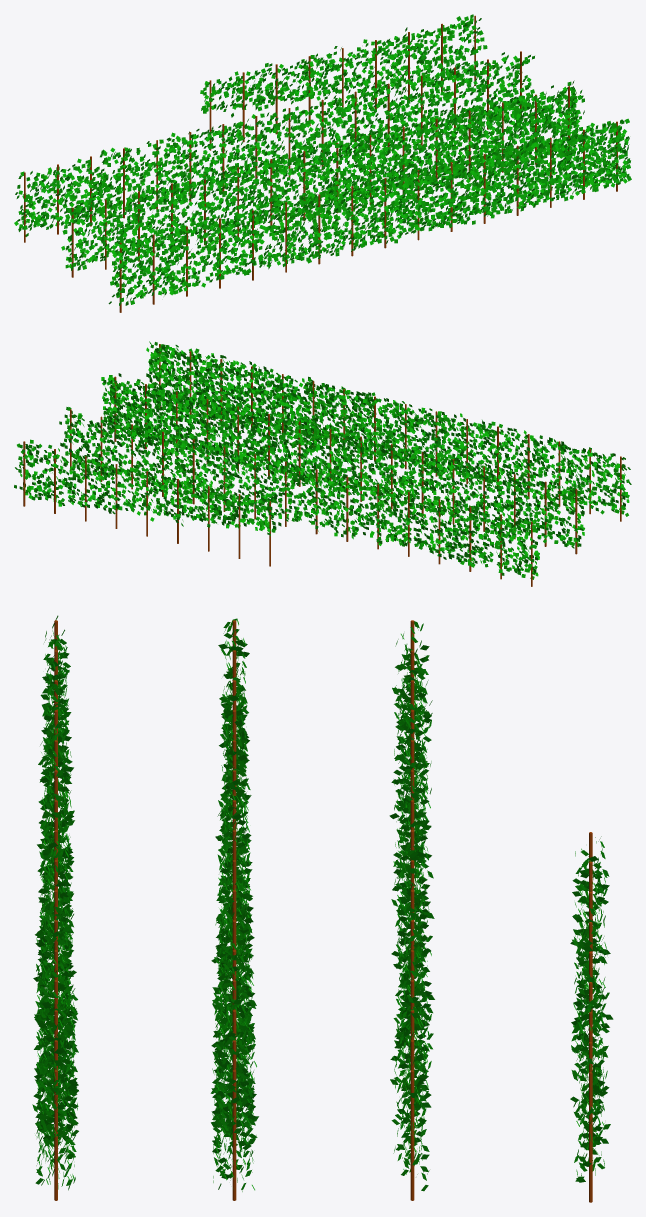
The model's file is cornaredo_vine.dae.
The picture shows the model from 3 angles, top to bottom: view 1: azimuth 30°, elevation 25°; view 2: azimuth 150°, elevation 25°; view 3: azimuth 270°, elevation 25°; orthographic projection. The views are drawn at different scales.
Visible parts, largest first — view 1: vine_3, vine_4, vine_1, vine_2_1, sticks_4, sticks_2, sticks_3, sticks_1; view 2: vine_4, vine_3, vine_1, vine_2_1, sticks_2, sticks_3, sticks_4, sticks_1; view 3: vine_3, vine_4, vine_1, vine_2_1, sticks_2, sticks_3, sticks_4, sticks_1.
Part boxes in pixels (<box>): vine_3: <box>108,118,631,305</box>; vine_4: <box>61,80,584,270</box>; vine_1: <box>14,52,534,236</box>; vine_2_1: <box>200,14,487,117</box>; sticks_4: <box>119,121,617,312</box>; sticks_2: <box>24,51,521,242</box>; sticks_3: <box>71,86,569,277</box>; sticks_1: <box>209,15,475,150</box>; vine_4: <box>101,373,587,548</box>; vine_3: <box>146,341,631,516</box>; vine_1: <box>59,407,540,579</box>; vine_2_1: <box>14,439,281,535</box>; sticks_2: <box>70,409,532,586</box>; sticks_3: <box>114,376,577,554</box>; sticks_4: <box>159,344,621,521</box>; sticks_1: <box>23,441,270,566</box>; vine_3: <box>32,615,78,1190</box>; vine_4: <box>210,618,258,1191</box>; vine_1: <box>389,621,434,1191</box>; vine_2_1: <box>570,836,613,1182</box>; sticks_2: <box>410,620,414,1200</box>; sticks_3: <box>232,620,236,1200</box>; sticks_4: <box>54,620,57,1200</box>; sticks_1: <box>589,832,592,1202</box>.
Size of the model in its own units: 15.62 by 8.16 by 2.05.
